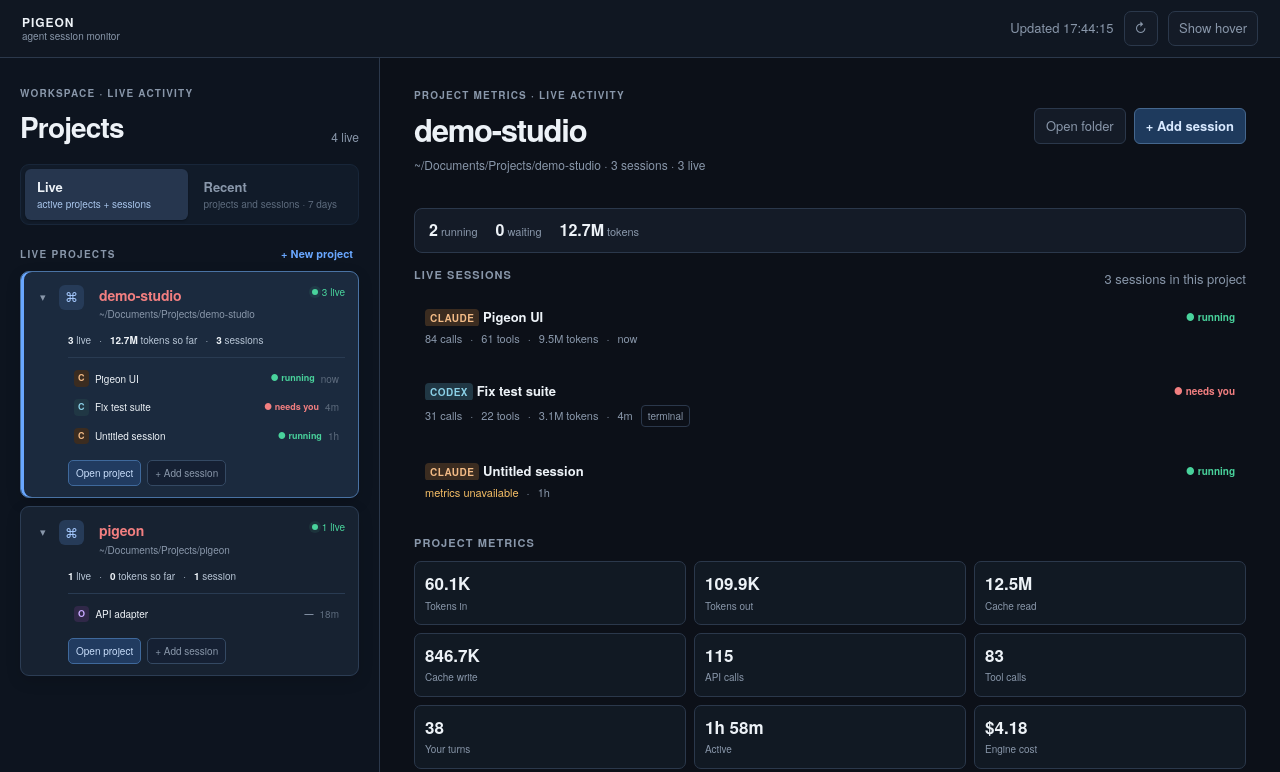
Scenario: the scope switch › keeps one engine's failure from removing the other engines' rows
Click the tab "Recent projects and sessions · 7 days".
click(273, 195)  # box 192,169 -> 354,220
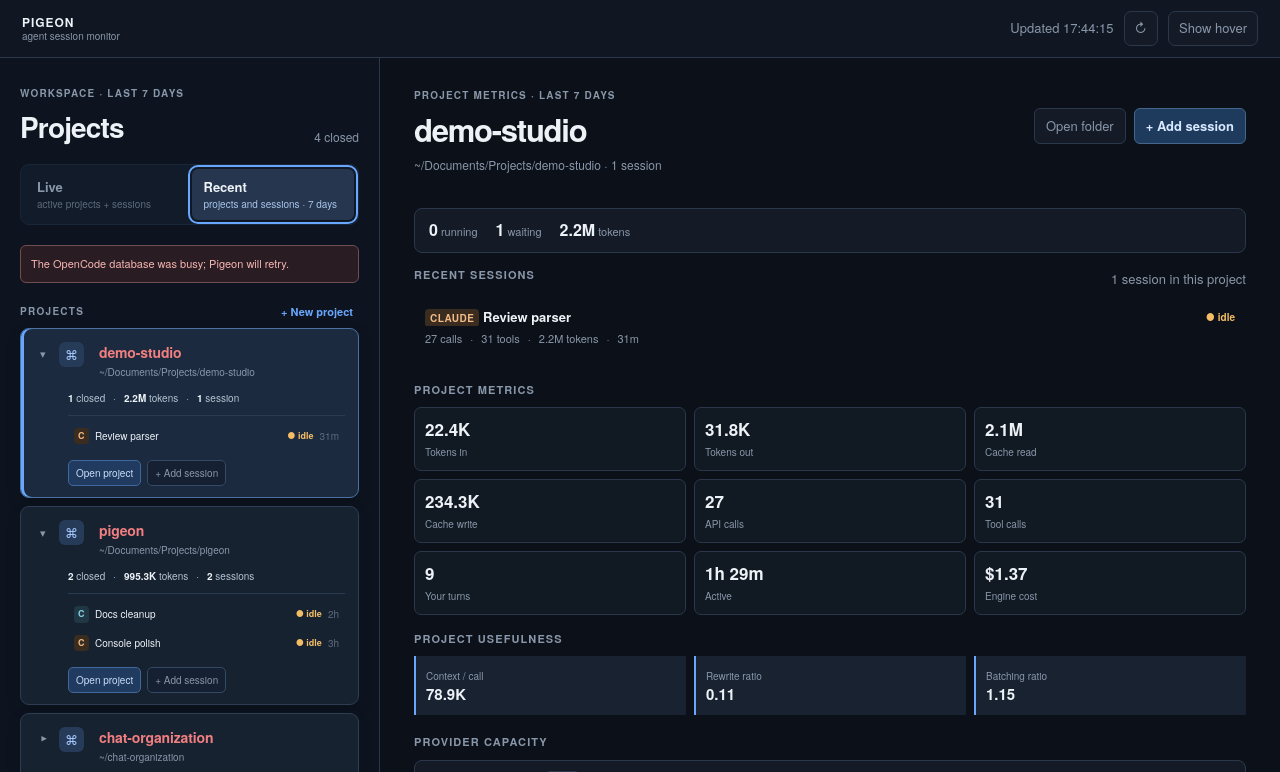
Now the message with test id "scope-problems" shows "OpenCode database was busy", box 31,255 -> 289,271
Now the text "Docs cleanup" is shown, box 95,607 -> 156,621
